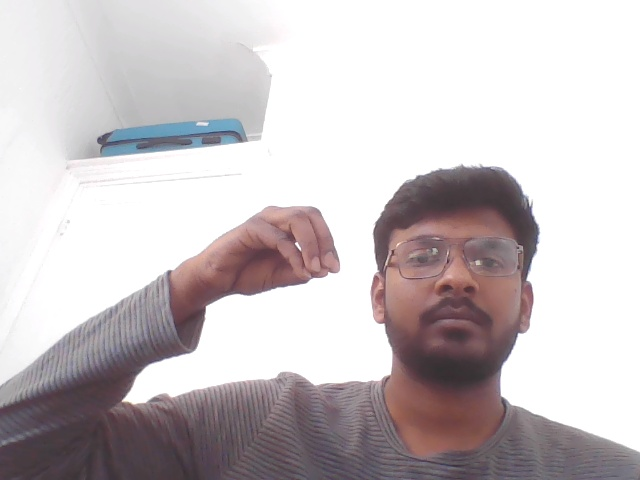Yes: (139, 179, 352, 366)
